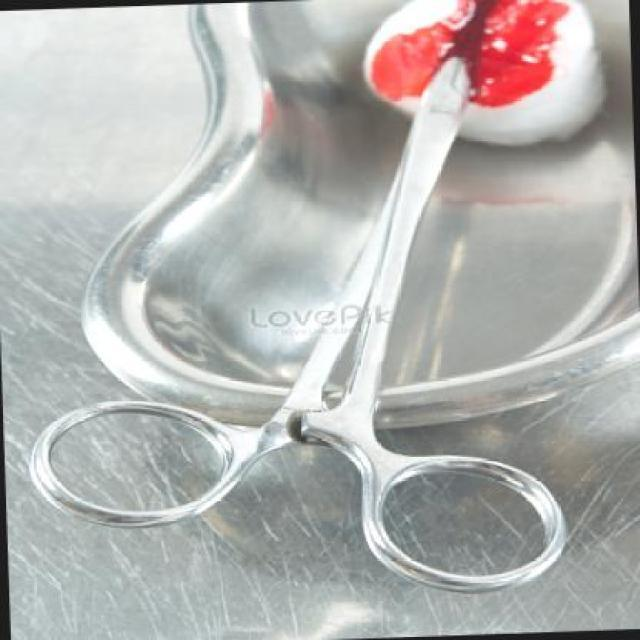wound: (380, 0, 578, 119)
